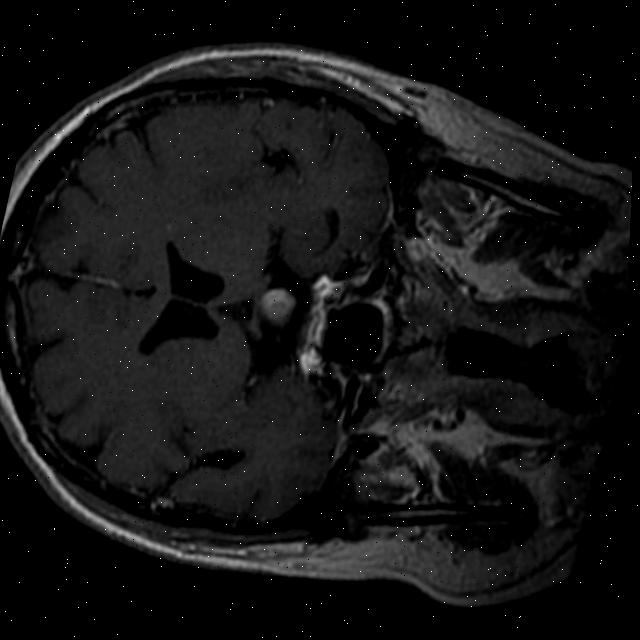Pituitary: (255, 282, 301, 329)
